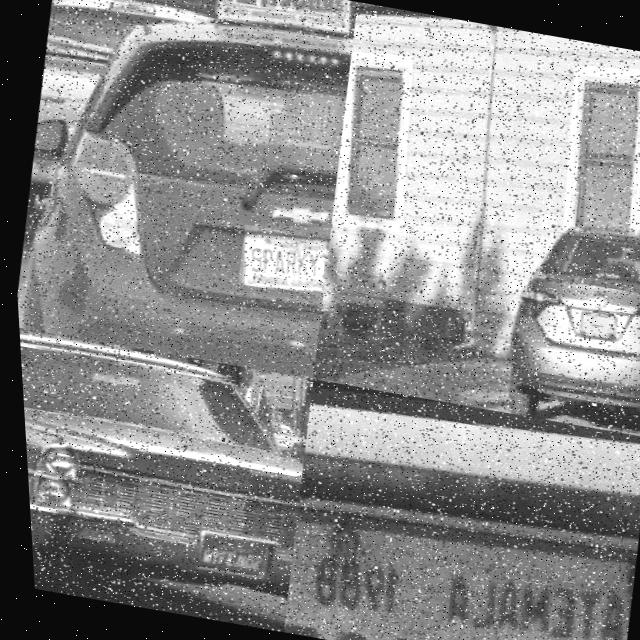LicensePlate: (238, 231, 324, 290), (191, 535, 262, 573), (576, 311, 611, 337)
